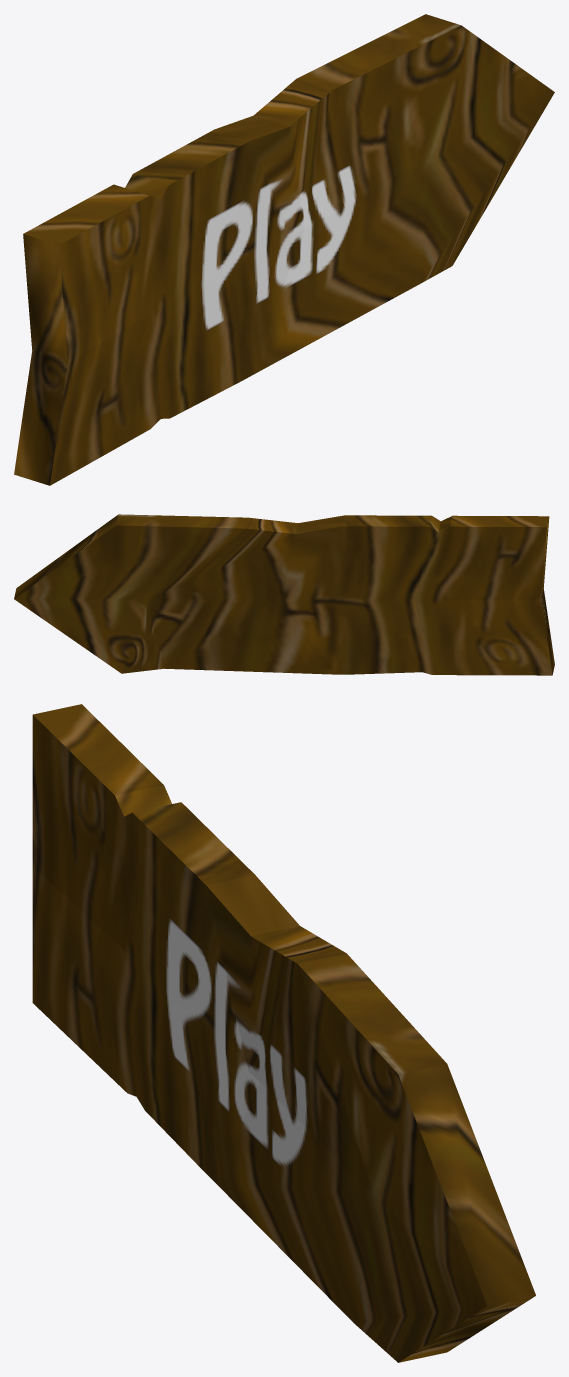
Rendered from play.FBX.
3 views of the same model, one above another, from view 1: azimuth 30°, elevation 25°; view 2: azimuth 150°, elevation 25°; view 3: azimuth 270°, elevation 25° (orthographic). The views are drawn at different scales.
Visible parts, largest first — view 1: Achievement01; view 2: Achievement01; view 3: Achievement01.
Part boxes in pixels (left/top/right/bottom): Achievement01: left=14, top=14, right=554, bottom=485; Achievement01: left=14, top=514, right=554, bottom=675; Achievement01: left=32, top=704, right=535, bottom=1362.
Size of the model in its own units: 14.38 by 5.11 by 7.21.
